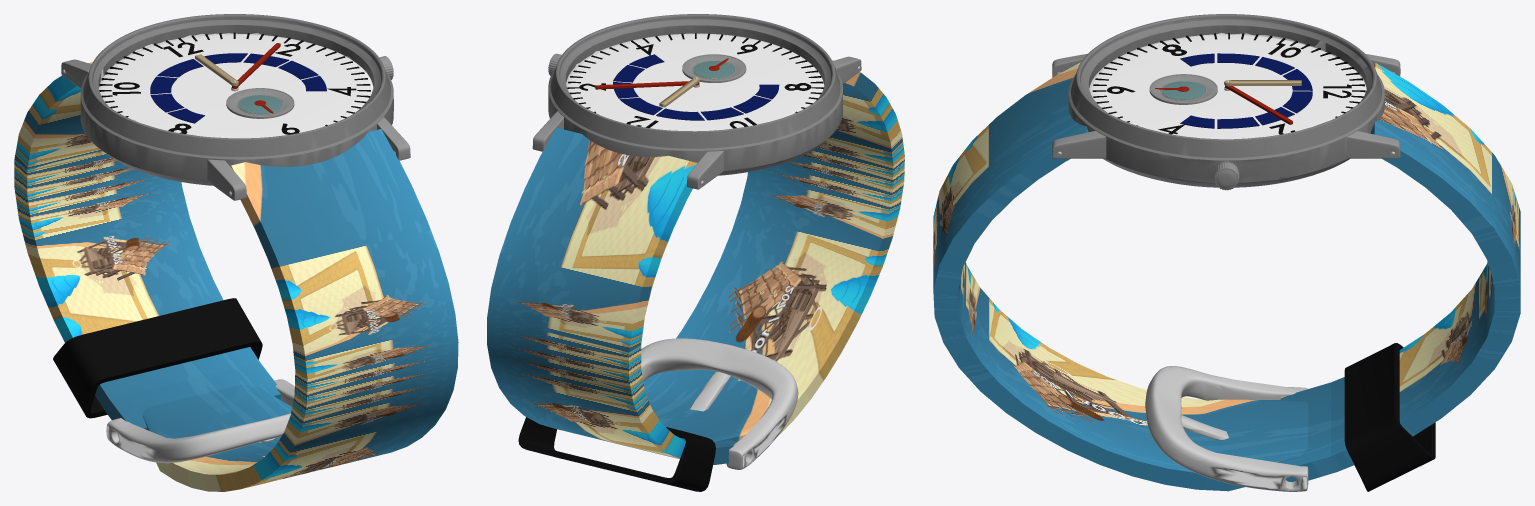
Rendered from watch11.fbx.
The picture shows the model from 3 angles, left to right: view 1: azimuth 30°, elevation 25°; view 2: azimuth 150°, elevation 25°; view 3: azimuth 270°, elevation 25°; orthographic projection. The views are drawn at different scales.
Parts seen in each view (by area): view 1: sport watch072, sport watch073, watch008, Object089, sport watch074, metal hold005, Arc008, handles008, faceRing014, hours008, numbers009; view 2: sport watch073, sport watch072, watch008, Object089, metal hold005, sport watch074, Arc008, handles008, faceRing014, hours008, metal pin005, numbers009 (+1 smaller); view 3: sport watch072, sport watch073, watch008, Object089, metal hold005, sport watch074, handles008, Arc008, faceRing014, hours008, numbers009.
Boxes of the visible parts, x1=… form: sport watch072: x1=142, y1=129, x2=458, y2=491; sport watch073: x1=14, y1=62, x2=280, y2=429; watch008: x1=80, y1=14, x2=393, y2=185; Object089: x1=99, y1=33, x2=373, y2=138; sport watch074: x1=53, y1=298, x2=262, y2=418; metal hold005: x1=106, y1=379, x2=294, y2=463; Arc008: x1=150, y1=53, x2=326, y2=123; handles008: x1=61, y1=59, x2=410, y2=200; faceRing014: x1=226, y1=88, x2=294, y2=118; hours008: x1=99, y1=32, x2=370, y2=125; numbers009: x1=112, y1=42, x2=356, y2=134; sport watch073: x1=487, y1=127, x2=736, y2=464; sport watch072: x1=643, y1=60, x2=904, y2=441; watch008: x1=548, y1=14, x2=842, y2=175; Object089: x1=566, y1=33, x2=824, y2=131; metal hold005: x1=641, y1=338, x2=798, y2=469; sport watch074: x1=518, y1=417, x2=715, y2=491; Arc008: x1=613, y1=54, x2=779, y2=120; handles008: x1=532, y1=56, x2=861, y2=189; faceRing014: x1=682, y1=54, x2=746, y2=82; hours008: x1=567, y1=33, x2=823, y2=112; metal pin005: x1=690, y1=371, x2=730, y2=411; numbers009: x1=579, y1=44, x2=811, y2=128; sport watch072: x1=933, y1=62, x2=1308, y2=491; sport watch073: x1=1280, y1=63, x2=1520, y2=481; watch008: x1=1068, y1=14, x2=1384, y2=187; Object089: x1=1089, y1=32, x2=1366, y2=139; metal hold005: x1=1145, y1=366, x2=1308, y2=491; sport watch074: x1=1344, y1=343, x2=1435, y2=491; handles008: x1=1052, y1=53, x2=1400, y2=158; Arc008: x1=1180, y1=53, x2=1312, y2=128; faceRing014: x1=1149, y1=74, x2=1217, y2=104; hours008: x1=1092, y1=33, x2=1365, y2=125; numbers009: x1=1107, y1=43, x2=1351, y2=134.
Size of the model in its own units: 142 by 177 by 250.
Materials: 15 (2 with a texture image).
